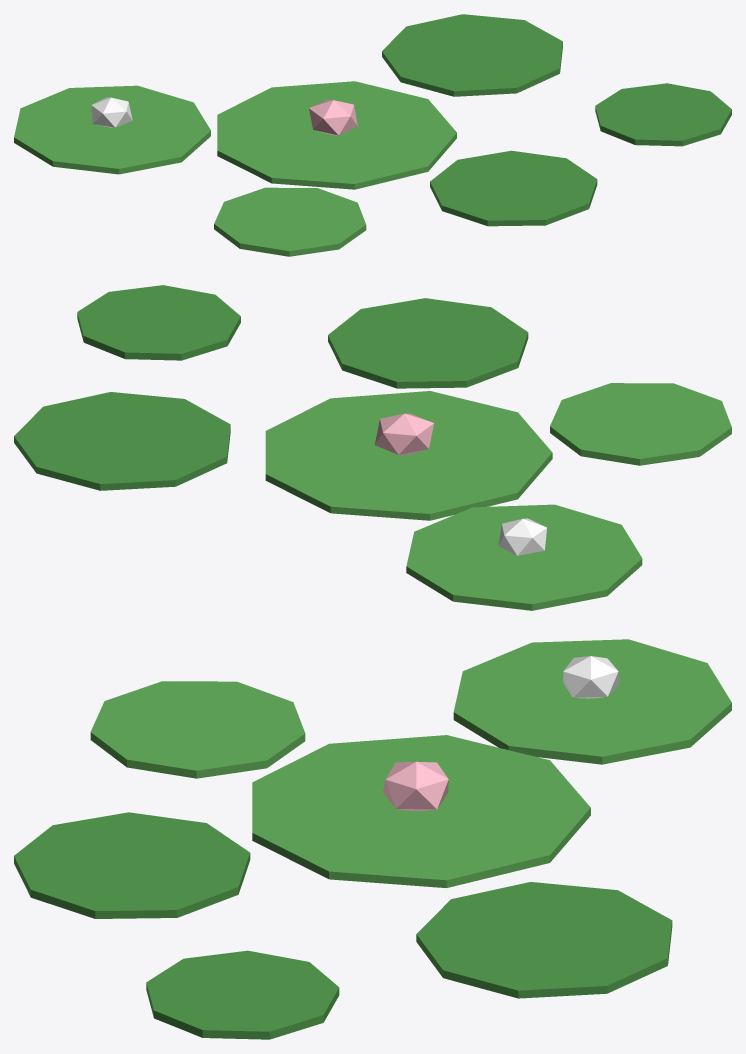
The model's file is lily_pads.glb.
3 views of the same model, one above another, from view 1: azimuth 30°, elevation 25°; view 2: azimuth 150°, elevation 25°; view 3: azimuth 270°, elevation 25° (orthographic). The views are drawn at different scales.
Visible parts, largest first — view 1: lily_pads; view 2: lily_pads; view 3: lily_pads.
Part boxes in pixels (left/top/right/bottom): lily_pads: left=14, top=14, right=731, bottom=256; lily_pads: left=14, top=285, right=731, bottom=610; lily_pads: left=14, top=639, right=731, bottom=1039.
Size of the model in its own units: 4.26 by 0.2722 by 3.29.
